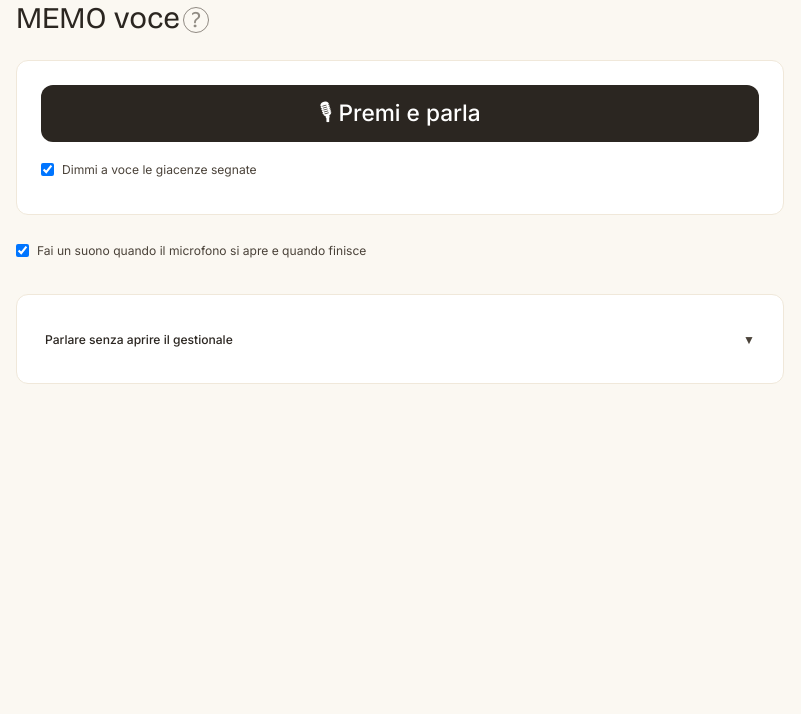
Test case: 🔴 la scheda dell'appunto appena detto compare subito › 🔴 LA GARA: una lettura vecchia in ritardo non fa sparire la scheda
Click the button "🎙 Premi e parla": coordinates (400, 114) [41,85,759,142]
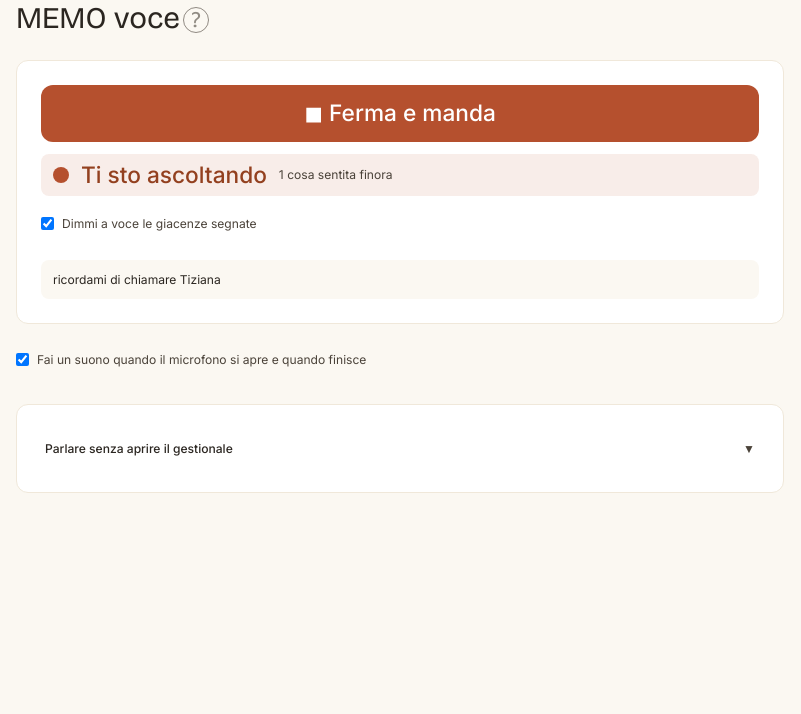
Click the button "◼ Ferma e manda": coordinates (400, 114) [41,85,759,142]
(page scrolled)
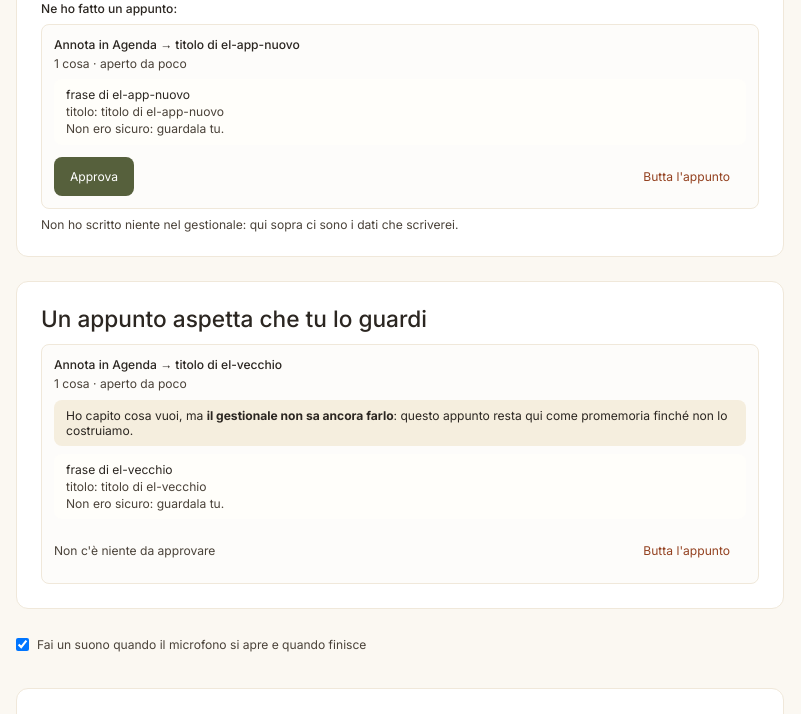
Now the button "Approva" is shown, box [54,156,134,196]
